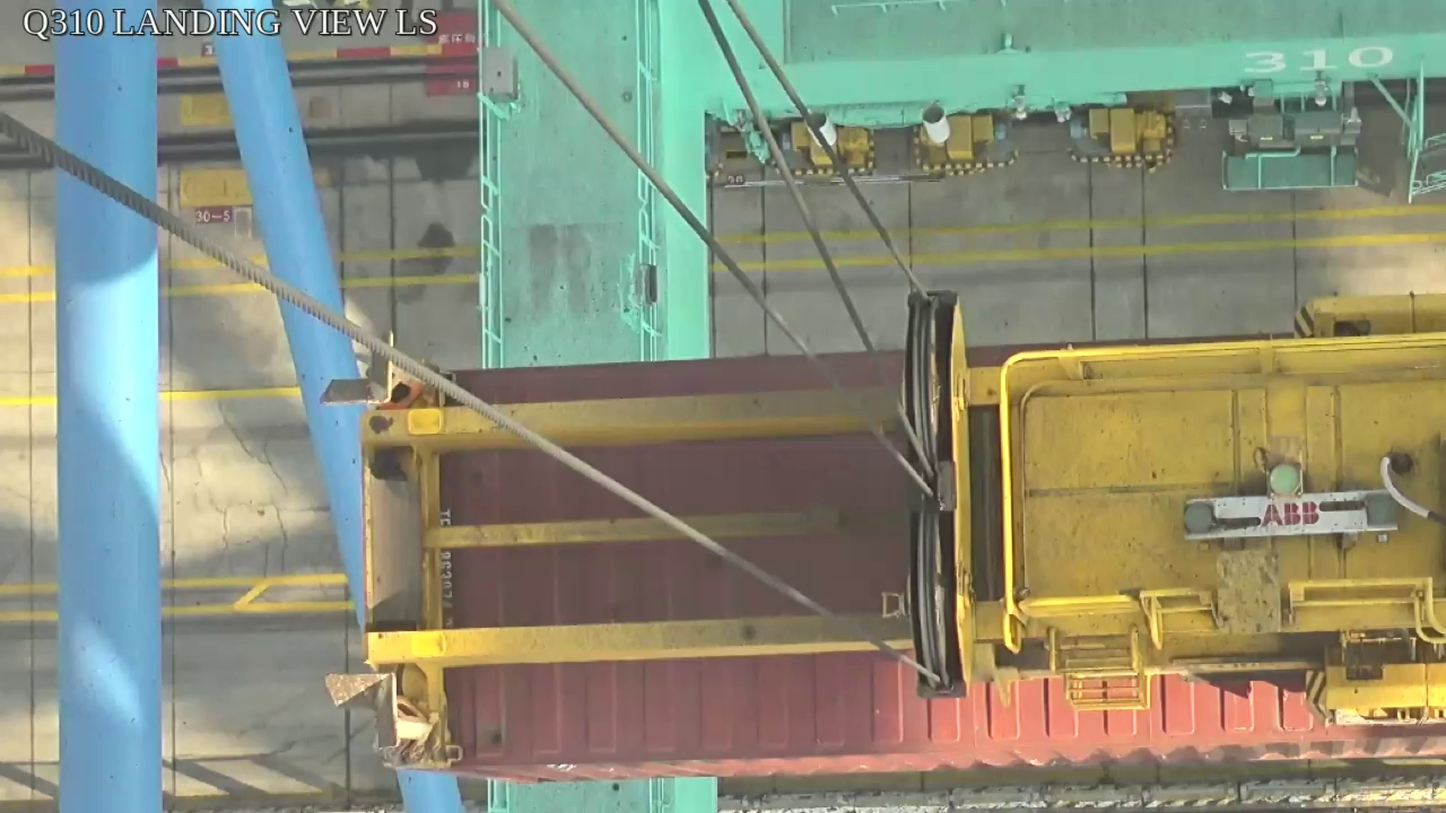aa: (901, 291, 979, 696)
